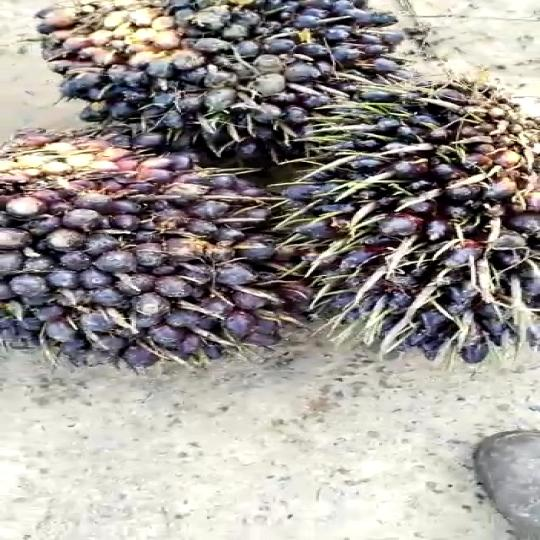mentah: (0, 107, 336, 378), (281, 75, 538, 382), (18, 0, 425, 147)
